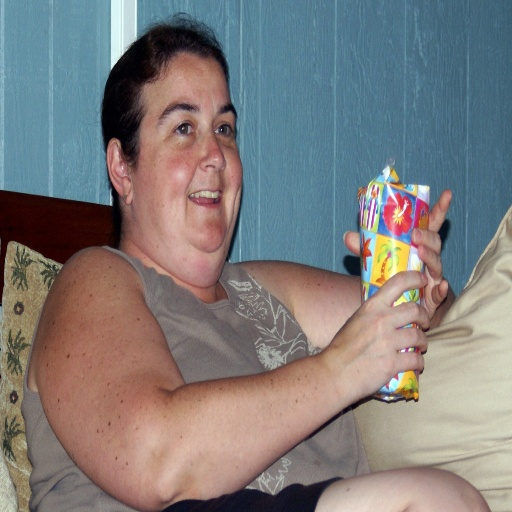hand: (335, 269, 438, 418), (343, 187, 449, 323)
